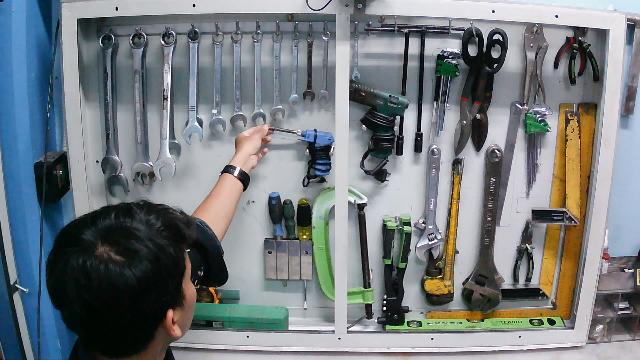solder_electrical: (263, 121, 336, 188)
